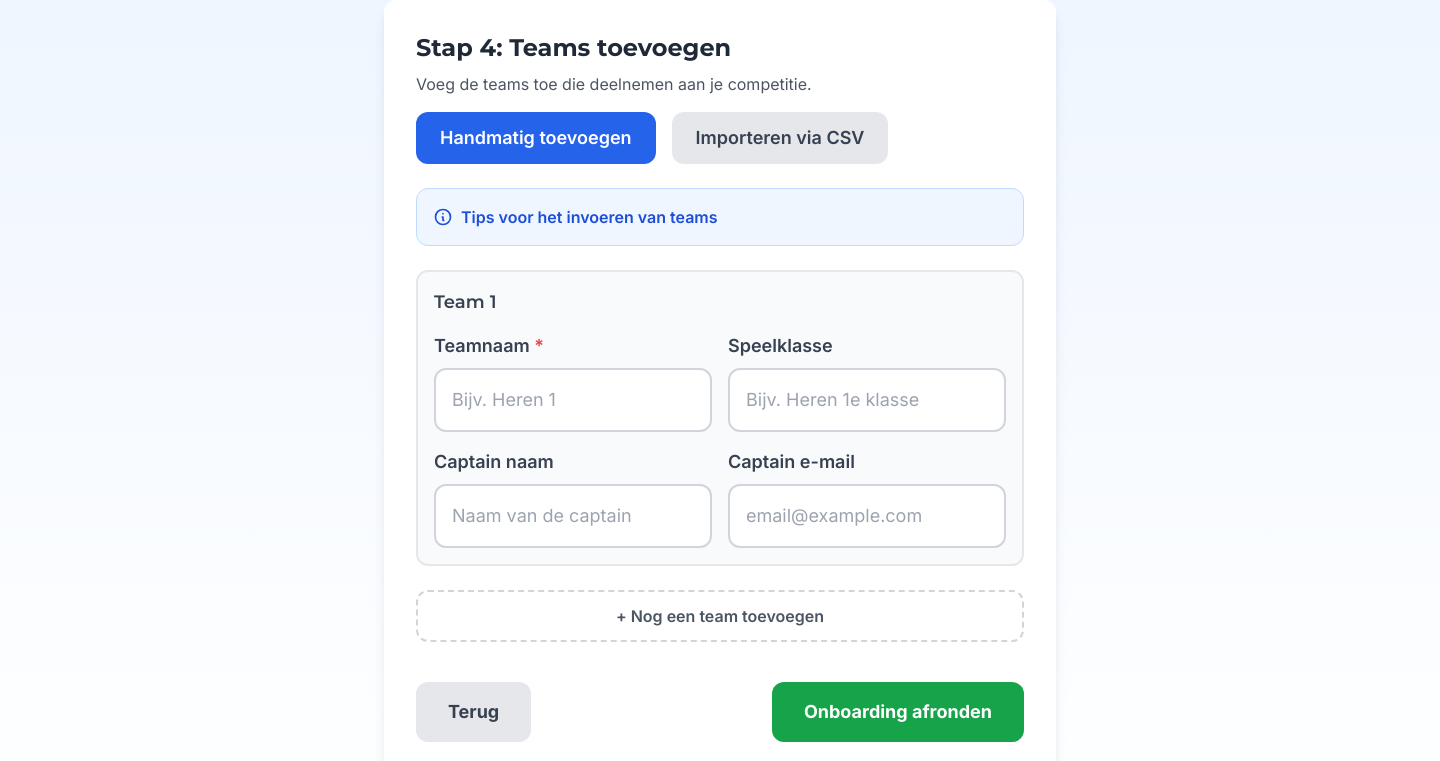
Test case: TeamsStep › Submit teams › should show API error on save failure
The image size is (1440, 761).
In the field labelled "Teamnaam *": point(573, 400) [434, 368, 712, 432], type "Heren 1"
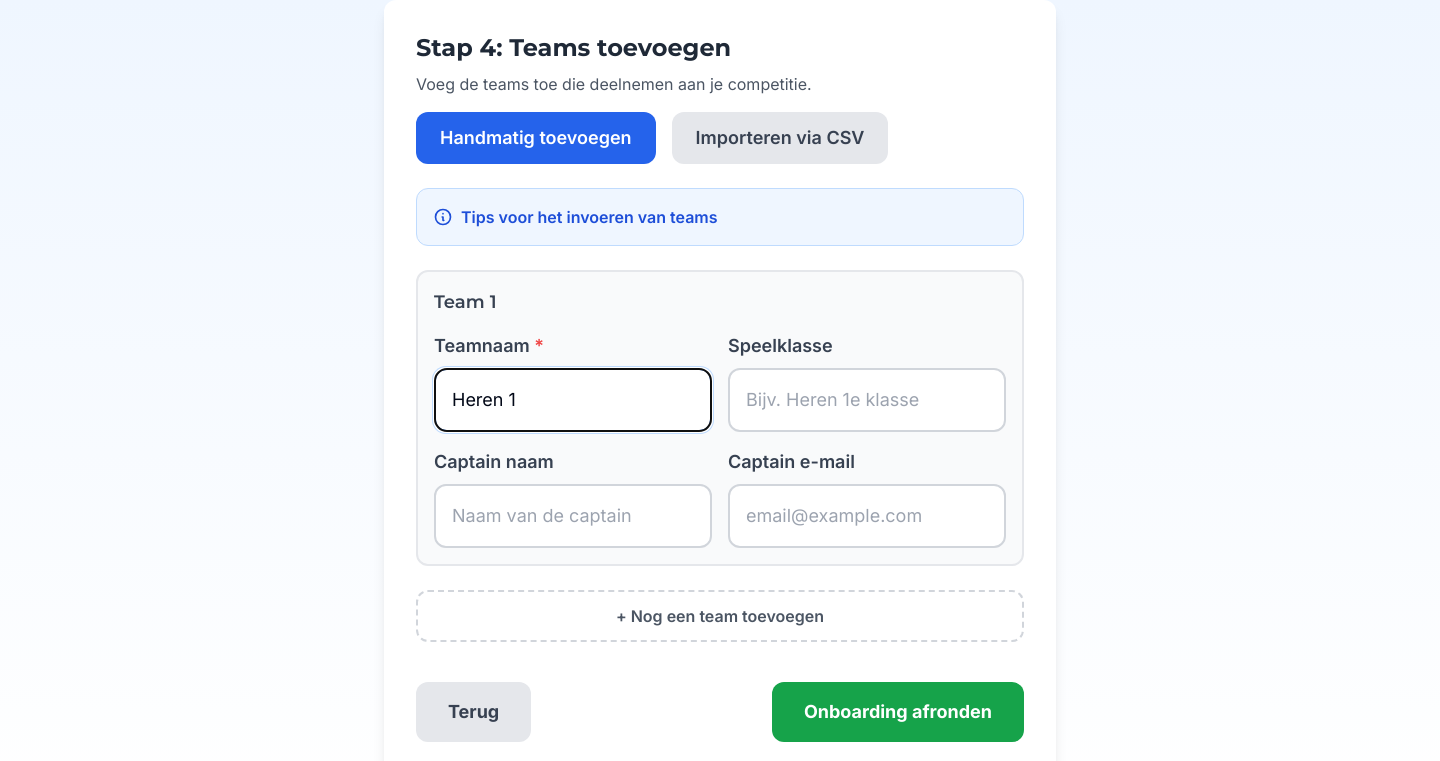
Click the button "Onboarding afronden": point(898, 712) [772, 682, 1024, 742]
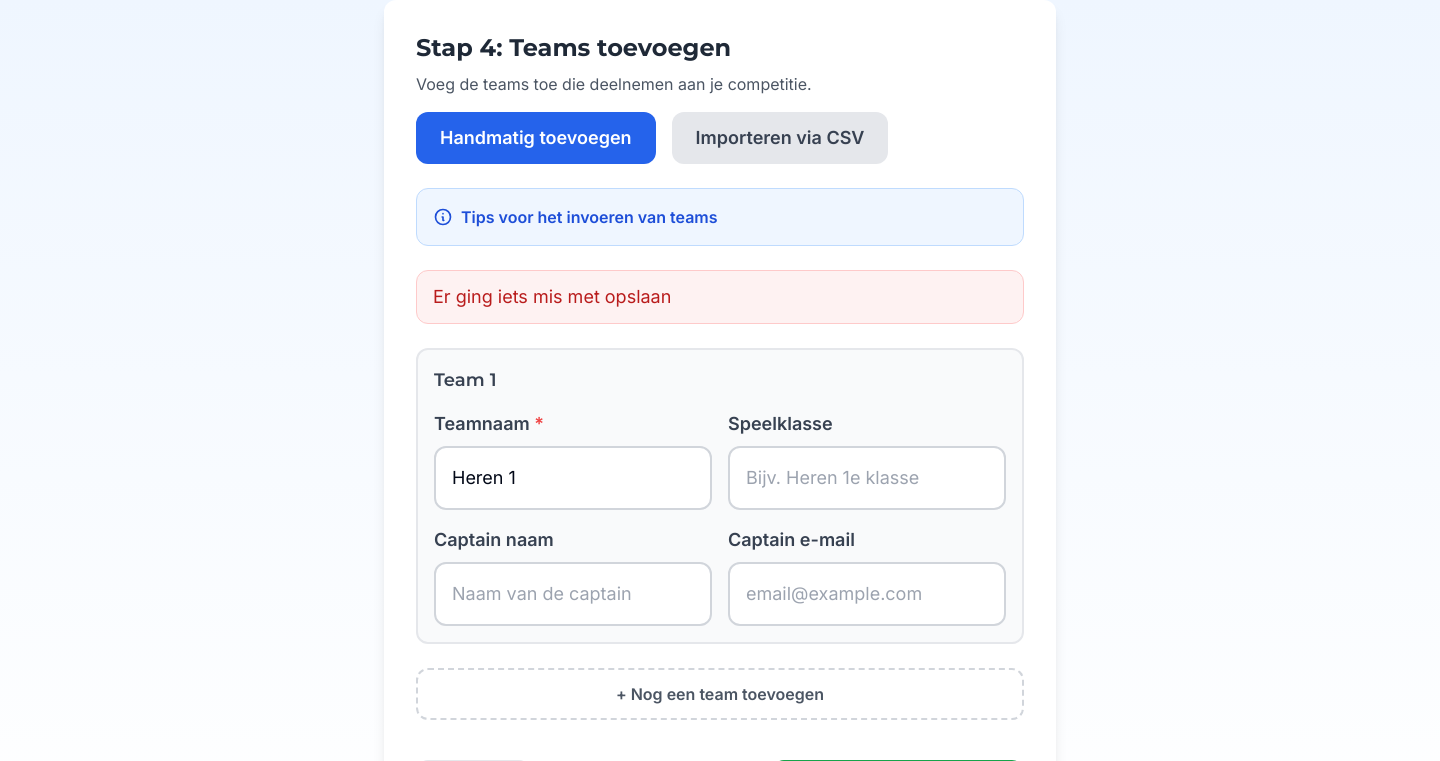
Now the text "Er ging iets mis met opslaan" is shown, box [416, 270, 1024, 324]
